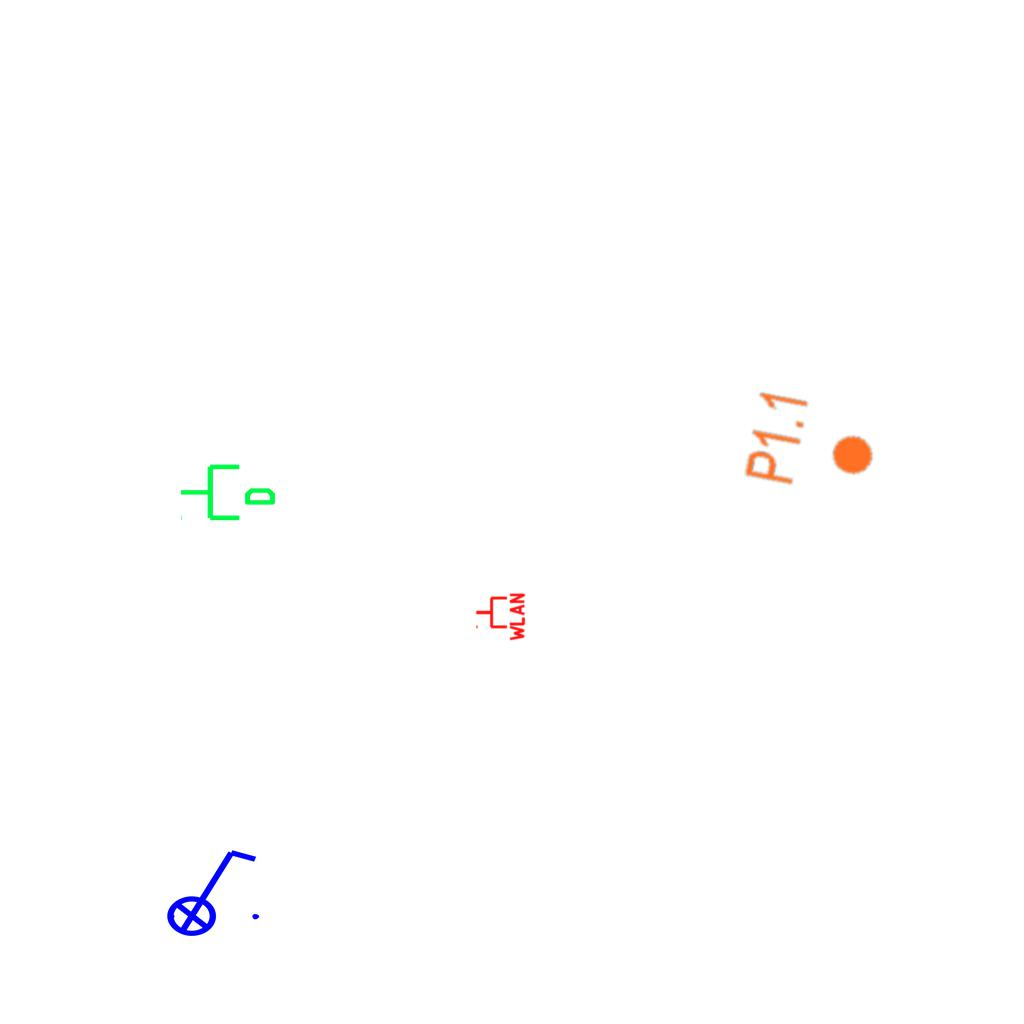Ausschalter_beleuchtet: (153, 842, 265, 938)
Datenanschluss_einfach: (178, 456, 278, 525)
Downlight_LED_Einbauleuchten_Flur: (740, 386, 885, 502)
WLAN: (474, 591, 526, 643)
